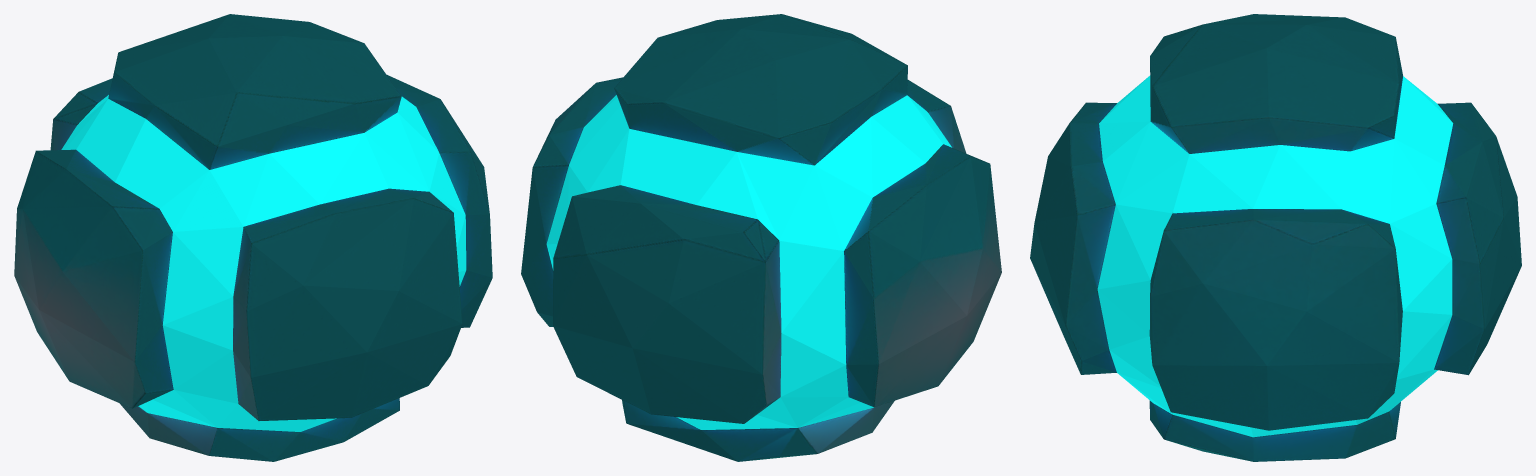
Rendered from shield_trap.glb.
3 renders of one model, left to right at view 1: azimuth 30°, elevation 25°; view 2: azimuth 150°, elevation 25°; view 3: azimuth 270°, elevation 25°, orthographic.
Parts seen in each view (by area): view 1: shield_trap_BAKED; view 2: shield_trap_BAKED; view 3: shield_trap_BAKED.
Part boxes in pixels (<box>): shield_trap_BAKED: <box>14,14,492,461</box>; shield_trap_BAKED: <box>521,14,1001,461</box>; shield_trap_BAKED: <box>1030,14,1521,461</box>.
Size of the model in its own units: 2.54 by 2.3 by 2.54.
2 materials, 2 textured.
